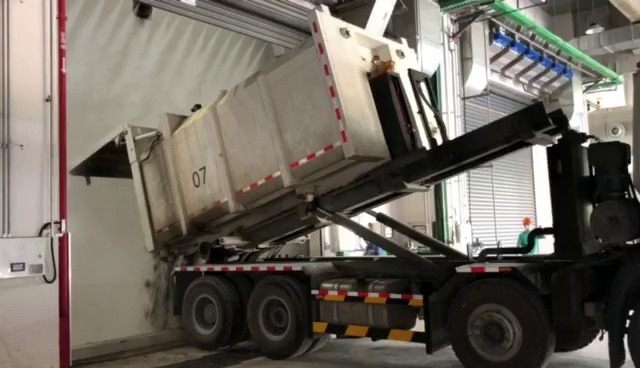dust: (72, 191, 144, 339)
truck: (102, 4, 640, 367)
